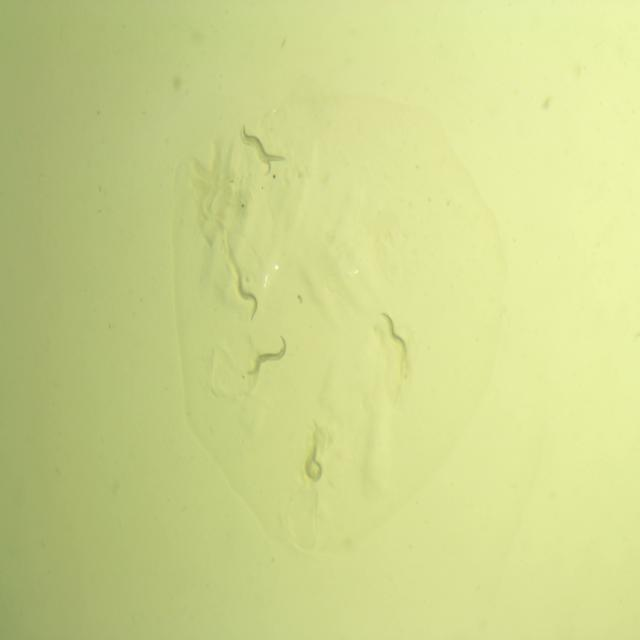worm: (244, 331, 288, 379), (241, 122, 290, 164), (236, 126, 274, 178), (233, 268, 262, 324), (379, 310, 408, 358), (302, 434, 325, 483)
